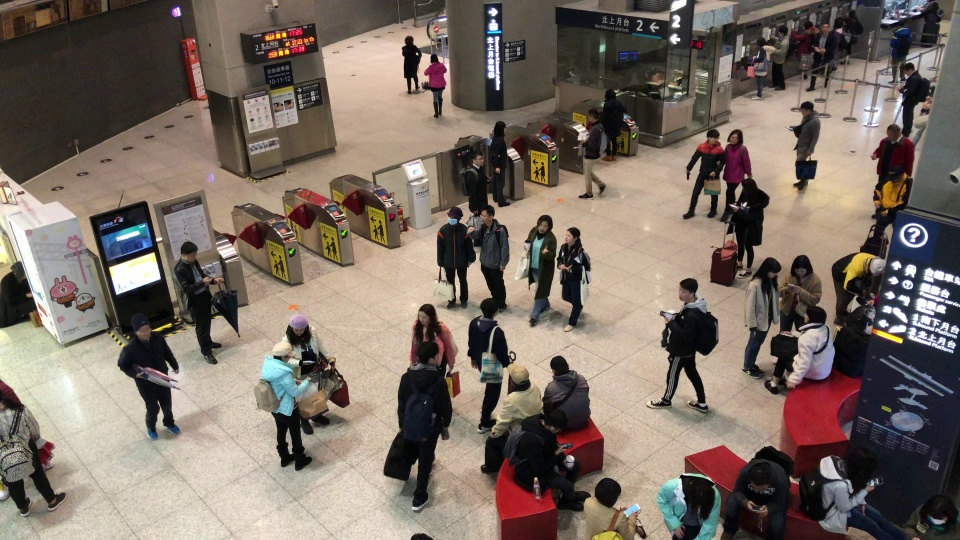person_head: (844, 447, 878, 483), (687, 483, 715, 515), (594, 478, 620, 507), (926, 497, 950, 525), (749, 464, 771, 491), (417, 341, 441, 365), (790, 254, 814, 278), (543, 410, 568, 433), (129, 315, 152, 339), (757, 255, 781, 278), (271, 341, 296, 362), (508, 364, 530, 387), (677, 277, 698, 301), (417, 304, 438, 325), (803, 306, 827, 323), (180, 240, 199, 261), (289, 314, 308, 335), (549, 355, 570, 374), (480, 297, 498, 317), (869, 256, 885, 275), (10, 260, 26, 279), (565, 226, 582, 243), (448, 206, 464, 224), (536, 215, 552, 233), (726, 129, 744, 144), (480, 206, 495, 223), (887, 167, 905, 181), (493, 120, 507, 137), (707, 127, 721, 144), (740, 178, 757, 192), (887, 124, 901, 140), (800, 100, 814, 115), (472, 150, 484, 167), (587, 109, 599, 121), (904, 61, 915, 74), (604, 89, 616, 100), (778, 25, 788, 37), (404, 34, 414, 45), (821, 23, 831, 34), (429, 53, 439, 63), (757, 37, 767, 47), (803, 20, 813, 29), (834, 19, 844, 28), (896, 19, 906, 28), (848, 10, 858, 18)
person_vbox: (798, 445, 908, 540), (646, 277, 719, 413), (397, 342, 453, 510), (502, 409, 590, 511), (117, 315, 182, 440), (252, 340, 314, 470), (0, 394, 66, 515), (719, 446, 795, 540), (481, 363, 543, 473), (171, 240, 224, 366), (282, 315, 336, 434), (764, 306, 835, 395), (467, 299, 510, 432), (771, 254, 822, 365), (741, 257, 780, 377), (725, 178, 770, 280), (467, 205, 510, 311), (655, 473, 721, 540), (871, 124, 915, 220), (831, 252, 886, 328), (436, 206, 475, 310), (682, 127, 726, 219), (582, 478, 647, 540), (541, 355, 591, 433), (523, 215, 557, 325), (408, 304, 459, 377), (557, 226, 591, 332), (719, 129, 753, 225), (785, 102, 821, 190), (872, 166, 914, 241), (459, 151, 491, 249), (893, 62, 930, 136), (577, 109, 607, 199), (901, 493, 959, 539), (0, 261, 36, 329), (805, 22, 837, 93), (767, 26, 798, 91), (489, 120, 511, 207), (600, 90, 624, 162), (887, 18, 912, 85), (790, 21, 818, 80), (423, 54, 448, 119), (748, 37, 774, 99), (838, 9, 864, 65), (401, 34, 422, 94), (832, 18, 852, 71), (919, 0, 943, 25)
